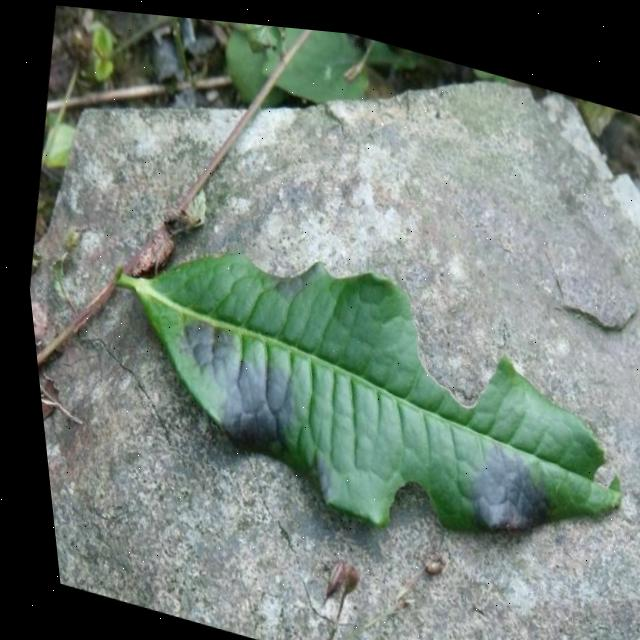Tea exobasidium blight: (164, 315, 303, 454), (452, 426, 558, 543)
